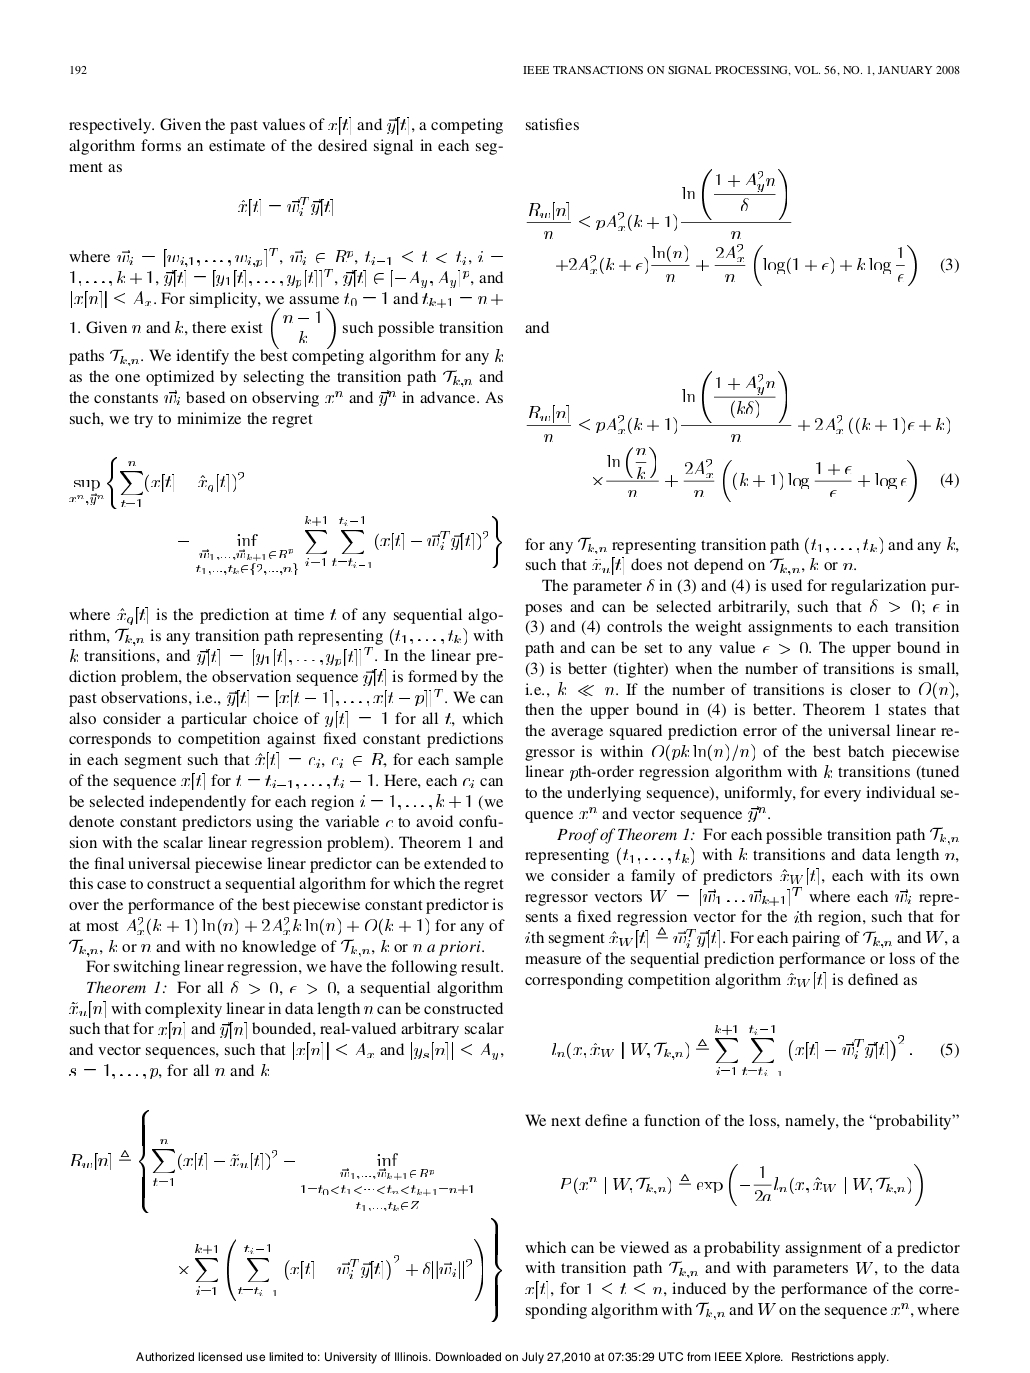formula: (71, 1108, 472, 1213), (179, 1217, 501, 1322), (526, 370, 949, 443), (552, 1025, 958, 1075), (593, 446, 958, 502), (179, 515, 501, 575), (526, 168, 791, 239), (556, 242, 958, 286), (562, 1162, 922, 1206), (69, 456, 243, 509), (238, 195, 332, 216)
